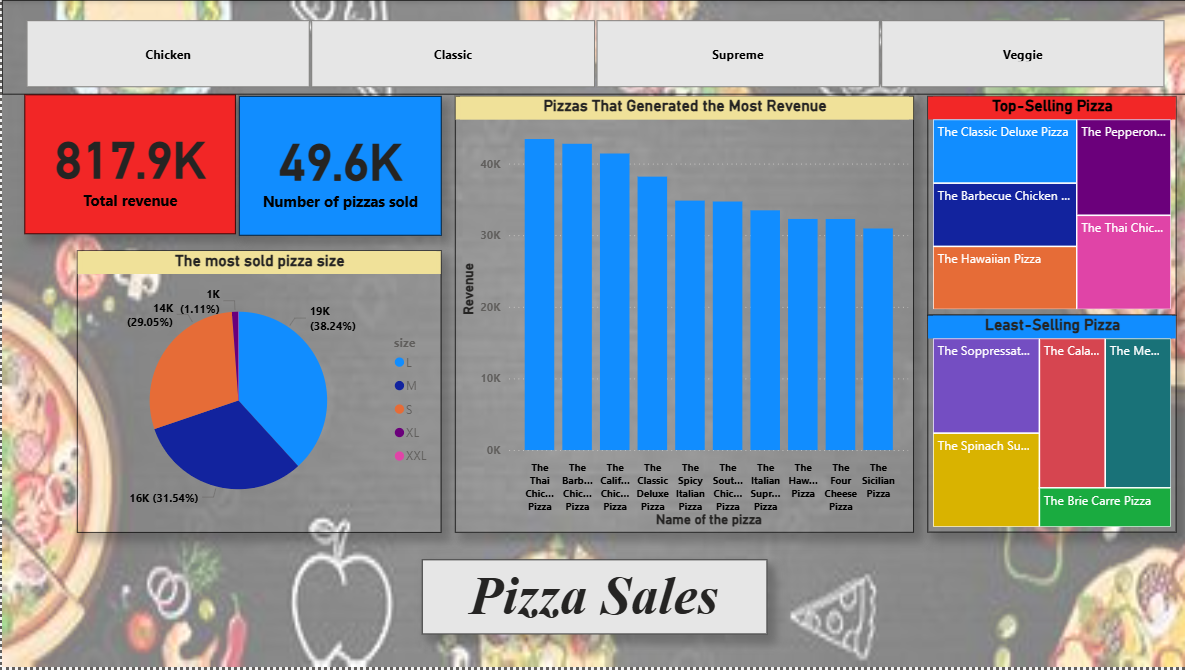

The page's visual inventory and layout, read from the dashboard file:
{"tool":"powerbi","page":{"name":"Page 1","canvas":[1280,720],"ordinal":0},"visuals":[{"type":"slicer","fields":{"Values":["e63a482c-f479-4319-842b-015830b.category"]},"box":[0,0,1279.4,102],"z":0},{"type":"card","fields":{"Values":["Sum(order_details.revenue)"]},"box":[24.3,102,228.3,150.6],"z":1000},{"type":"card","fields":{"Values":["Sum(order_details.quantity)"]},"box":[255.8,103.6,218.6,150.6],"z":2000},{"type":"columnChart","title":"Pizzas That Generated the Most Revenue","fields":{"Y":["Sum(order_details.revenue)"],"Category":["pizza_types.name"]},"box":[489,103.6,495.5,471.2],"z":3000},{"type":"pieChart","title":"The most sold pizza size","fields":{"Category":["pizzas.size"],"Y":["Sum(order_details.quantity)"]},"box":[81,270.4,393.5,304.4],"z":4000},{"type":"treemap","title":"Top-Selling Pizza","fields":{"Group":["pizza_types.name"],"Values":["Sum(order_details.quantity)"]},"box":[999.1,103.6,268.8,236.4],"z":5000},{"type":"treemap","title":"Least-Selling Pizza","fields":{"Group":["pizza_types.name"],"Values":["Sum(order_details.quantity)"]},"box":[999.1,340,268.8,234.8],"z":6000},{"type":"textbox","box":[453.4,604,372.4,81],"z":7000}]}

Visuals, with their boxes in screenshot pixels (x1, y1, x2, y2), scaled from the page's 1280x720 canvas onto the 1185x670 screenshot:
slicer - e63a482c-f479-4319-842b-015830b.category: {"left": 0, "top": 0, "right": 1184, "bottom": 95}
card - Sum(order_details.revenue): {"left": 22, "top": 95, "right": 234, "bottom": 235}
card - Sum(order_details.quantity): {"left": 237, "top": 96, "right": 439, "bottom": 237}
"Pizzas That Generated the Most Revenue" columnChart: {"left": 453, "top": 96, "right": 911, "bottom": 535}
"The most sold pizza size" pieChart: {"left": 75, "top": 252, "right": 439, "bottom": 535}
"Top-Selling Pizza" treemap: {"left": 925, "top": 96, "right": 1174, "bottom": 316}
"Least-Selling Pizza" treemap: {"left": 925, "top": 316, "right": 1174, "bottom": 535}
textbox: {"left": 420, "top": 562, "right": 765, "bottom": 637}
